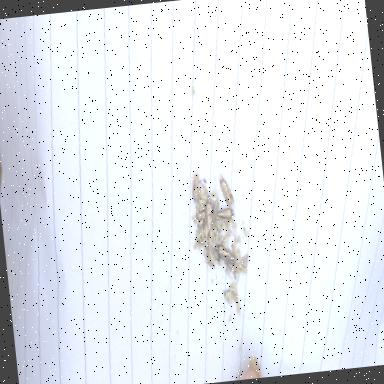pbw: (200, 194, 216, 239), (219, 176, 236, 210), (215, 243, 237, 266), (190, 172, 202, 204), (214, 206, 236, 220), (204, 242, 214, 262), (210, 193, 218, 202), (195, 206, 200, 219), (198, 218, 204, 226)
